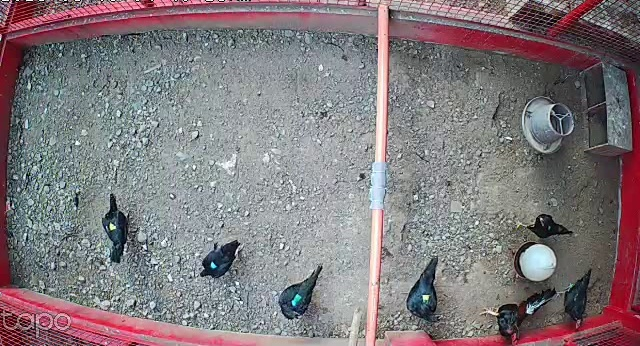Chicken: (404, 253, 447, 326), (275, 264, 326, 324), (99, 192, 135, 264), (558, 265, 594, 334), (197, 235, 244, 282), (514, 212, 573, 239)
Rooster: (480, 286, 561, 346)
Saddle_Color_Blue: (208, 261, 219, 270)
Saddle_Color_Bluegreen: (290, 294, 300, 306)
Saddle_Color_Green: (548, 226, 551, 230)
Saddle_Color_Yellow: (105, 220, 118, 230)
Saddle_Color_YellowGreen: (419, 295, 433, 306)
